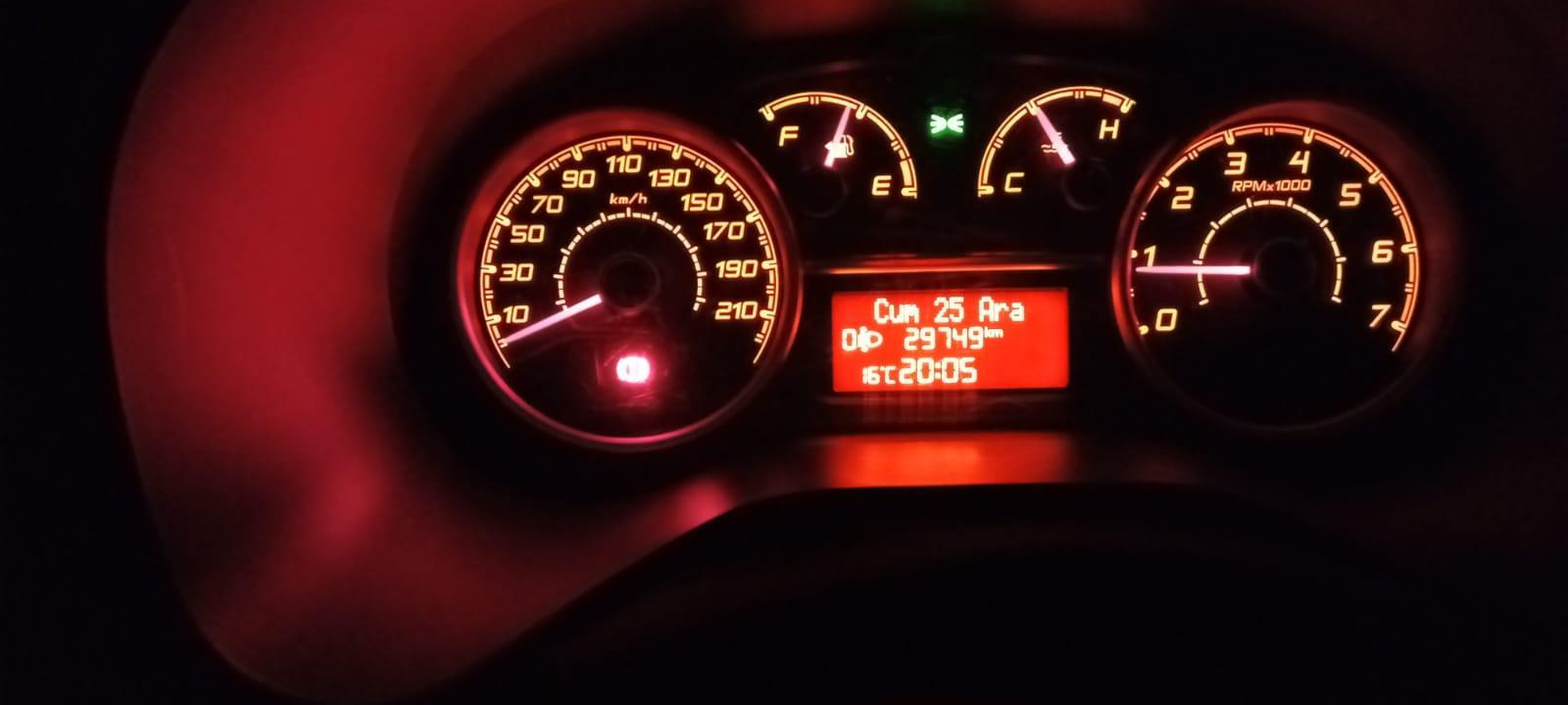0: (941, 356, 959, 383), (916, 356, 933, 384), (840, 325, 858, 351)
1: (860, 364, 866, 385)
2: (897, 355, 915, 384), (933, 296, 948, 322), (902, 326, 918, 350)
4: (953, 326, 967, 348)
5: (959, 355, 976, 383), (948, 295, 964, 322)
6: (867, 365, 878, 385)
7: (937, 325, 952, 349)
9: (967, 325, 984, 349), (919, 325, 935, 350)
X: (978, 295, 994, 321), (873, 296, 889, 322), (1009, 301, 1024, 320), (889, 303, 903, 323), (884, 363, 897, 384), (994, 301, 1007, 321), (904, 303, 917, 322), (934, 359, 940, 381), (984, 325, 992, 337), (993, 328, 1002, 338)
odometer: (826, 287, 1071, 390)
